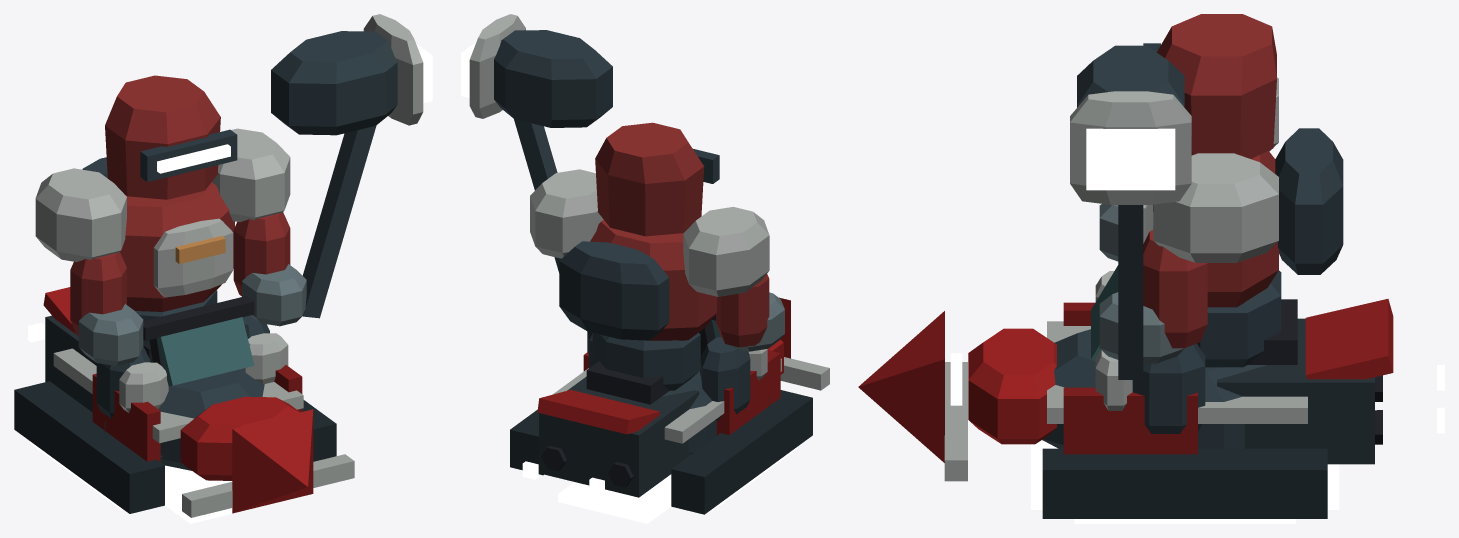
Rendered from hero_scott.glb.
3 renders of one model, left to right at view 1: azimuth 30°, elevation 25°; view 2: azimuth 150°, elevation 25°; view 3: azimuth 270°, elevation 25°, orthographic. The views are drawn at different scales.
Parts seen in each view (by area): view 1: body, arm_r, arm_l, glow, leg_l, leg_r; view 2: body, arm_r, arm_l, glow, leg_l; view 3: body, arm_r, glow, leg_r, arm_l.
Part boxes in pixels (bbox=[...]): body: bbox=[14, 75, 354, 517]; arm_r: bbox=[212, 14, 423, 326]; arm_l: bbox=[35, 168, 143, 365]; glow: bbox=[28, 44, 432, 523]; leg_l: bbox=[96, 346, 168, 457]; leg_r: bbox=[242, 315, 288, 383]; body: bbox=[510, 122, 829, 514]; arm_r: bbox=[469, 14, 612, 272]; arm_l: bbox=[683, 207, 784, 351]; glow: bbox=[461, 42, 797, 523]; leg_l: bbox=[700, 337, 769, 420]; body: bbox=[858, 14, 1393, 518]; arm_r: bbox=[1070, 45, 1278, 379]; glow: bbox=[950, 128, 1444, 523]; leg_r: bbox=[1095, 343, 1205, 433]; arm_l: bbox=[1099, 77, 1278, 261].
Bounding box in the file's own units: 1.23 × 1.43 × 1.51.
